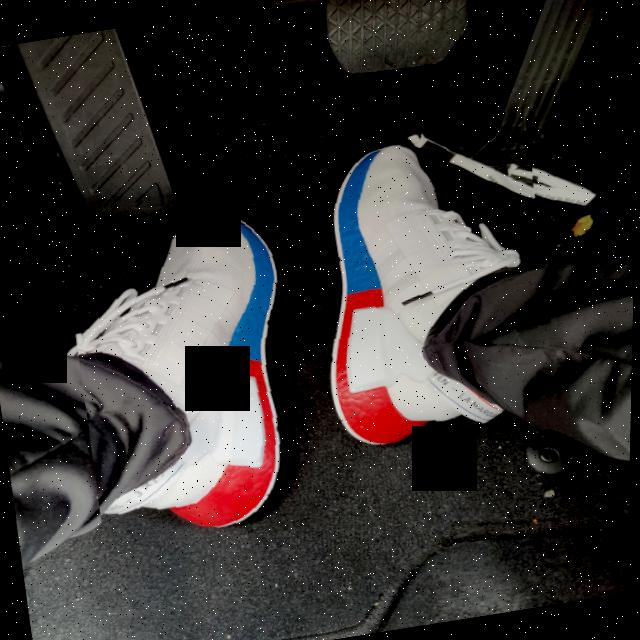shoe: (54, 174, 336, 556), (281, 104, 575, 464)
